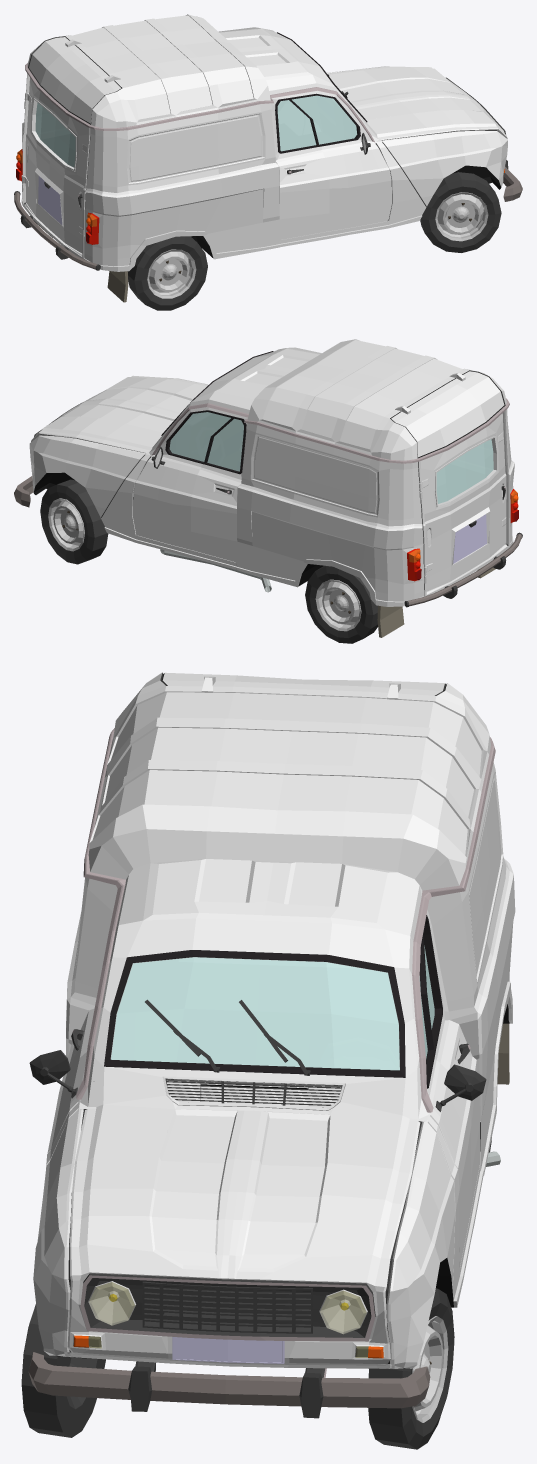
File: renault_4l.glb
The picture shows the model from 3 angles, top to bottom: view 1: azimuth 30°, elevation 25°; view 2: azimuth 150°, elevation 25°; view 3: azimuth 270°, elevation 25°; orthographic projection. The views are drawn at different scales.
Parts seen in each view (by area): view 1: Object_21, Object_24, Object_19, Object_26, Object_22, Object_18, Object_20, Object_7, Object_2, Object_23, Object_17, Object_4; view 2: Object_21, Object_24, Object_19, Object_26, Object_22, Object_18, Object_20, Object_2, Object_4, Object_7, Object_17, Object_23 (+2 smaller); view 3: Object_21, Object_19, Object_23, Object_18, Object_22, Object_24, Object_20, Object_16, Object_14, Object_2, Object_26, Object_17.
Part boxes in pixels (box(x1,y1,x2,y2)): Object_21: box(21, 14, 507, 271); Object_24: box(127, 172, 501, 310); Object_19: box(35, 95, 357, 167); Object_26: box(147, 192, 488, 298); Object_22: box(25, 63, 375, 196); Object_18: box(14, 166, 522, 269); Object_20: box(275, 32, 367, 153); Object_7: box(24, 36, 497, 256); Object_2: box(38, 176, 62, 224); Object_23: box(14, 74, 508, 270); Object_17: box(191, 165, 501, 257); Object_4: box(38, 224, 128, 302); Object_21: box(29, 339, 514, 606); Object_24: box(40, 479, 377, 643); Object_19: box(169, 412, 493, 503); Object_26: box(48, 498, 361, 631); Object_22: box(151, 398, 509, 493); Object_18: box(14, 476, 522, 606); Object_20: box(161, 351, 273, 474); Object_2: box(453, 514, 486, 563); Object_4: box(377, 567, 495, 637); Object_7: box(40, 370, 508, 589); Object_17: box(33, 472, 323, 586); Object_23: box(34, 403, 522, 607); Object_21: box(33, 672, 515, 1368); Object_19: box(111, 945, 434, 1070); Object_23: box(29, 999, 486, 1418); Object_18: box(28, 1352, 430, 1408); Object_22: box(72, 728, 495, 1377); Object_24: box(21, 1137, 491, 1449); Object_20: box(104, 915, 442, 1088); Object_16: box(88, 1282, 368, 1357); Object_14: box(88, 1281, 367, 1334); Object_2: box(172, 1337, 284, 1363); Object_26: box(412, 1316, 448, 1422); Object_17: box(53, 1004, 509, 1368).
Size of what is drawn, in the model's own units: 4.11 by 2.02 by 2.02.
